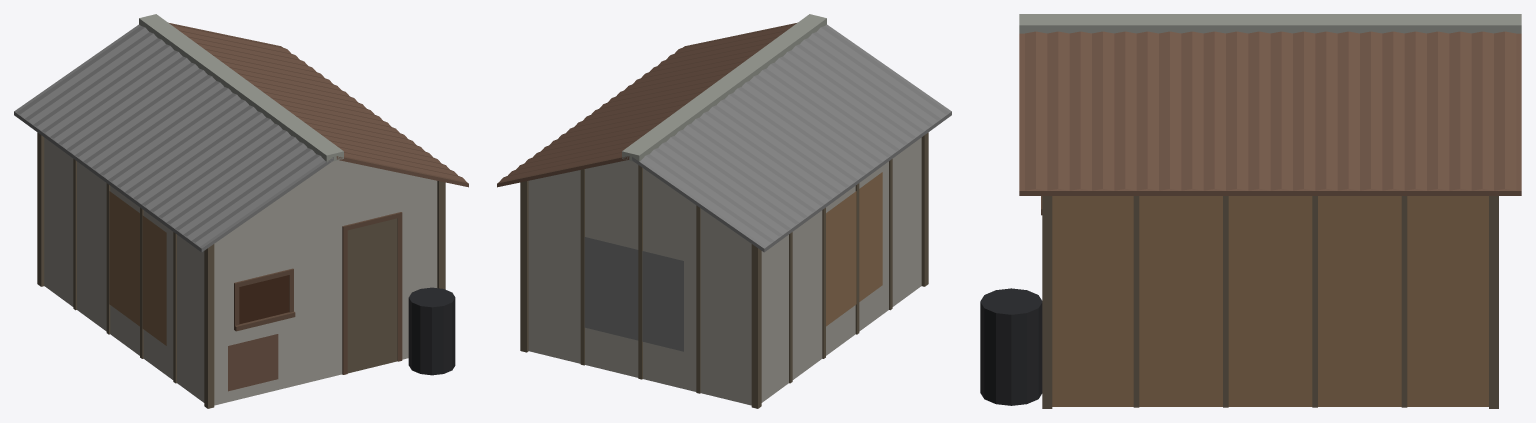
File: fill5_close.fbx
The picture shows the model from 3 angles, left to right: view 1: azimuth 30°, elevation 25°; view 2: azimuth 150°, elevation 25°; view 3: azimuth 270°, elevation 25°; orthographic projection. The views are drawn at different scales.
Visible parts, largest first — view 1: a2014/0/fill5_close; view 2: a2014/0/fill5_close; view 3: a2014/0/fill5_close.
Part boxes in pixels (x1=…): a2014/0/fill5_close: x1=14, y1=14, x2=468, y2=408; a2014/0/fill5_close: x1=497, y1=14, x2=951, y2=408; a2014/0/fill5_close: x1=980, y1=14, x2=1521, y2=408.
Size of the model in its own units: 3.7 by 3.08 by 4.85.
